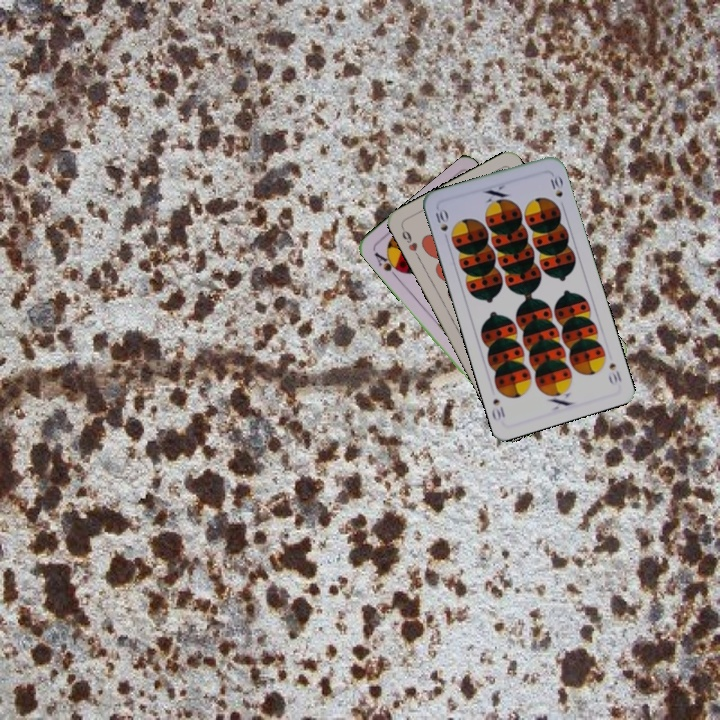H9: (398, 223, 422, 261)
S10: (431, 205, 451, 244), (604, 358, 624, 388)
SA: (370, 248, 405, 281)
